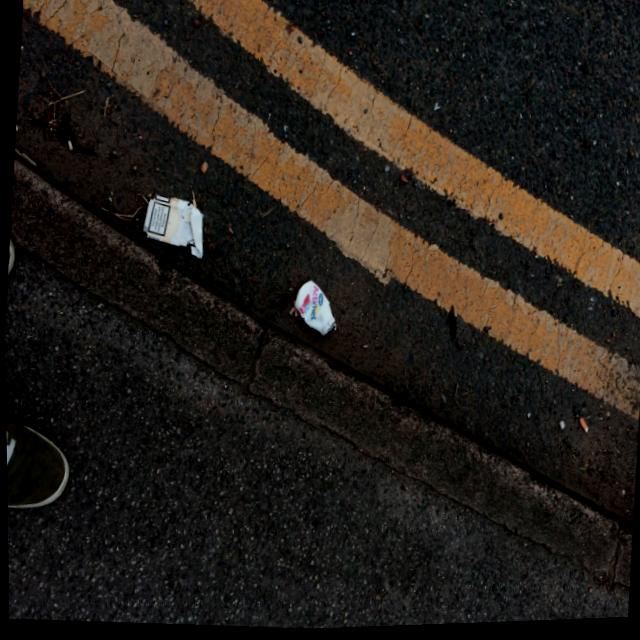Paper: (137, 190, 207, 265)
Plastic: (288, 277, 339, 342)
